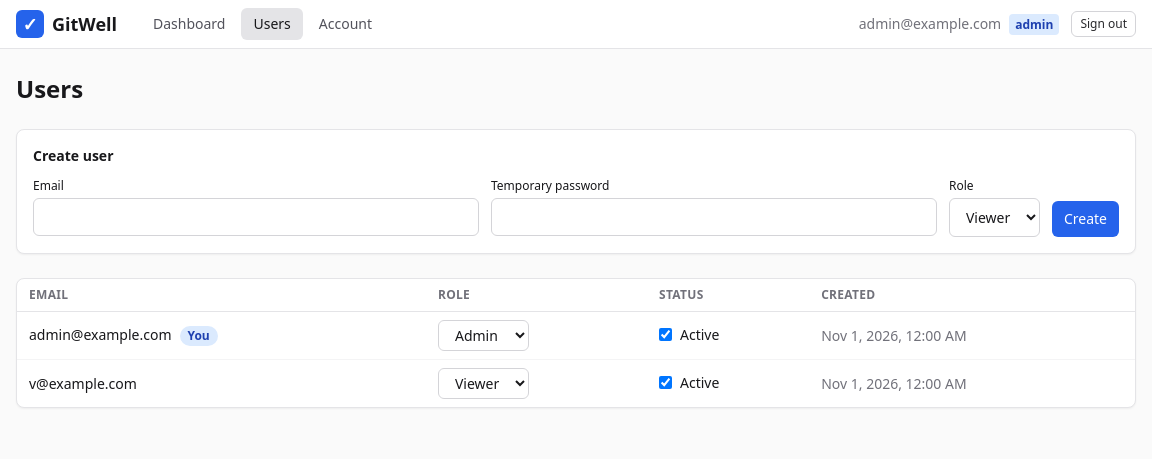
users page › shows the server's LAST_ADMIN error inline
Select "Viewer" in the dropdown named "Role for admin@example.com": (484, 336) x1=438 y1=320 x2=529 y2=351
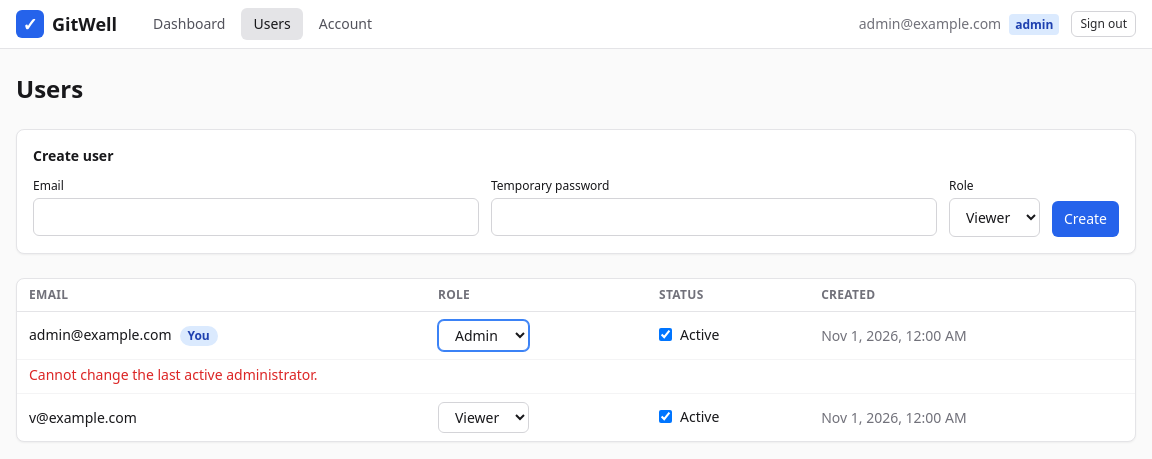
Expected: the text "Cannot change the last active administrator." is shown, x1=29 y1=365 x2=318 y2=384
